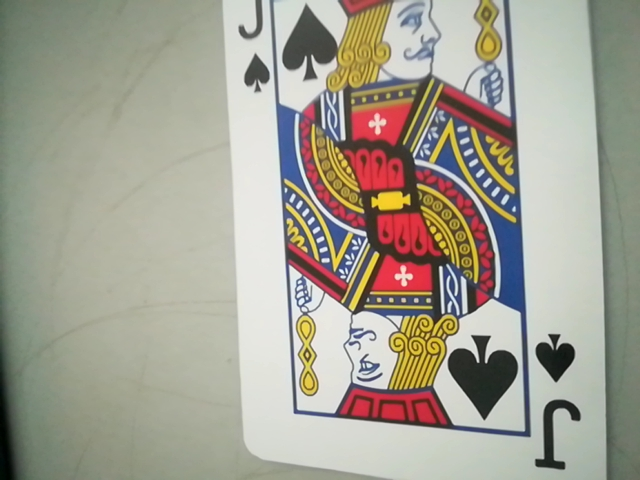ht j: (528, 328, 584, 466)
